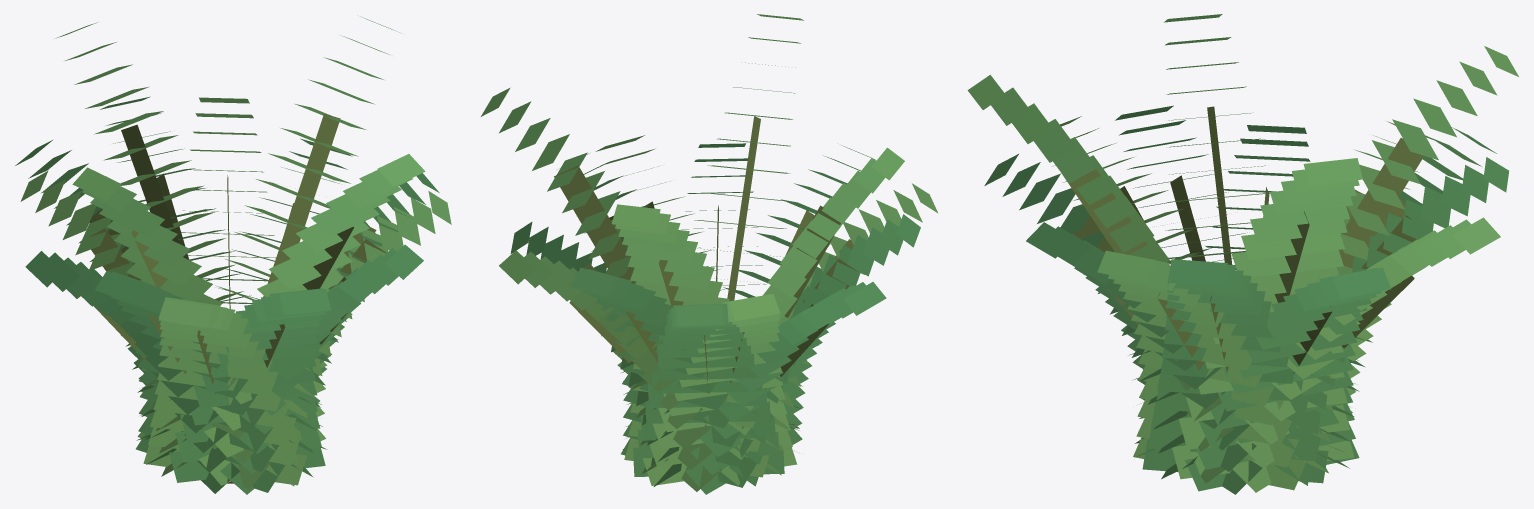
The model's file is fern_plant_far.1a403dc2.glb.
3 renders of one model, left to right at view 1: azimuth 30°, elevation 25°; view 2: azimuth 150°, elevation 25°; view 3: azimuth 270°, elevation 25°, orthographic. The views are drawn at different scales.
Visible parts, largest first — view 1: fern_plant; view 2: fern_plant; view 3: fern_plant.
Boxes of the visible parts, x1=… form: fern_plant: x1=15, y1=16, x2=451, y2=494; fern_plant: x1=481, y1=14, x2=937, y2=494; fern_plant: x1=967, y1=14, x2=1518, y2=494.
Size of the model in its own units: 0.8931 by 0.8568 by 1.02.
